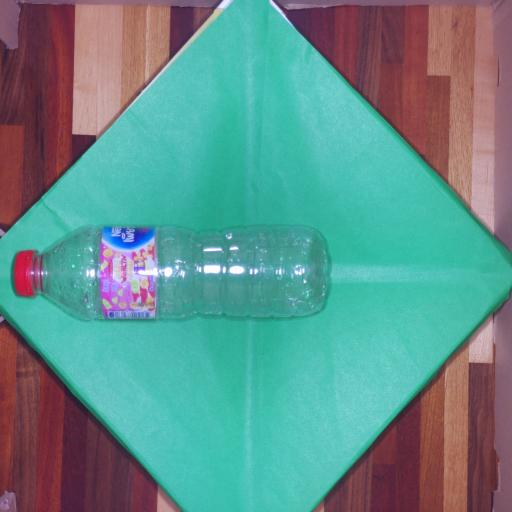bottle: (0, 209, 343, 337)
